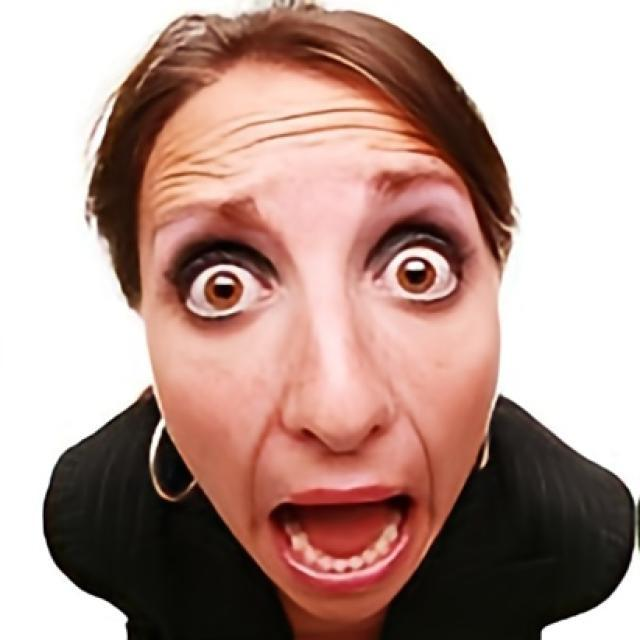fear: (132, 55, 500, 623)
